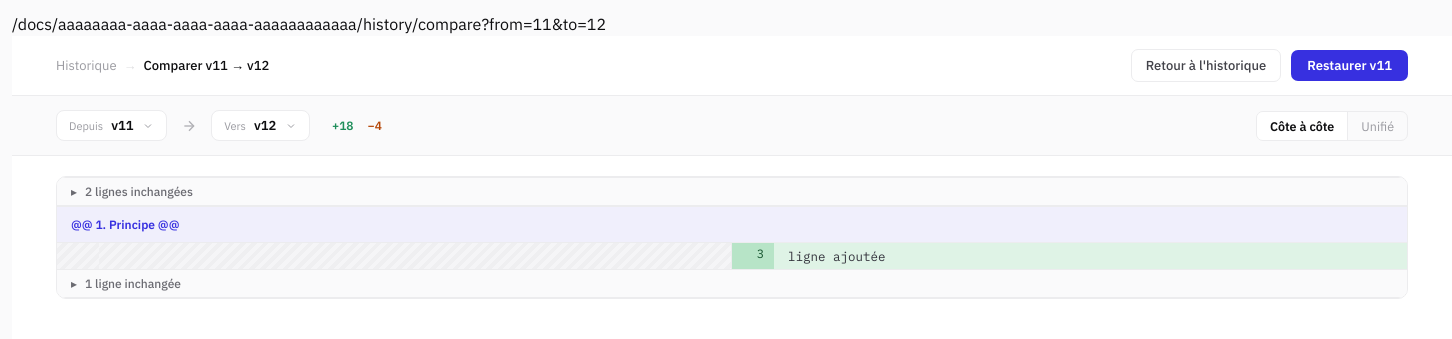
Scenario: DocumentComparePage › blocs repliés par le serveur (lignes absentes, seulement collapsedUnchanged) › affiche « N lignes inchangées » sans en-tête ni ligne, puis charge le contexte complet au dépliage
The width and height of the screenshot is (1452, 339).
Check: the elements with test id "diff-hunk" read "@@ 1. Principe @@", in this order, box [57, 206, 1407, 243]
Click the button with test id "diff-collapsed" showing "▸ 2 lignes inchangées" at (139, 192), box [57, 177, 1407, 206]
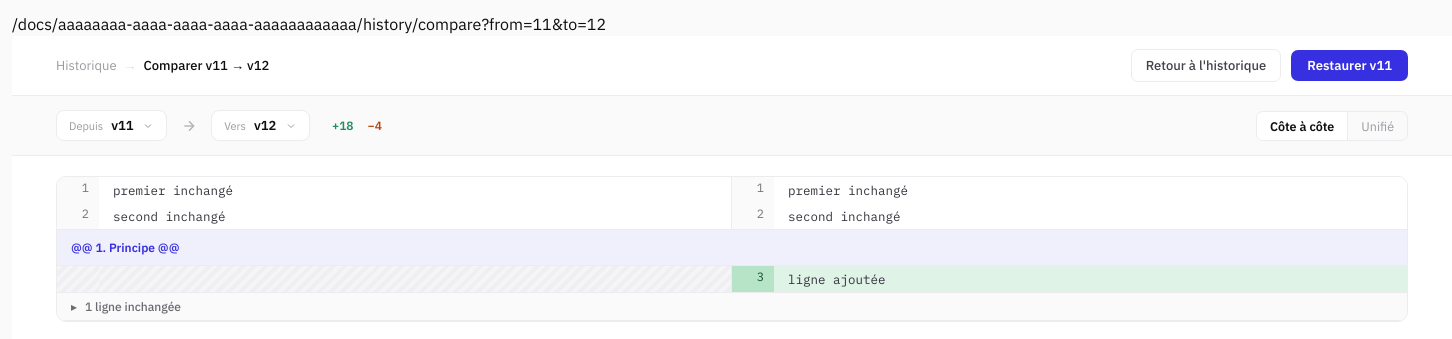
Check: the text "dernier inchangé" is not shown
Check: the text "premier inchangé" is shown 2 times, box [99, 177, 731, 203]; [774, 177, 1407, 203]
Check: the text "second inchangé" is shown 2 times, box [99, 203, 731, 229]; [774, 203, 1407, 229]
Click the button with test id "diff-collapsed" at (133, 307), box [57, 292, 1407, 321]
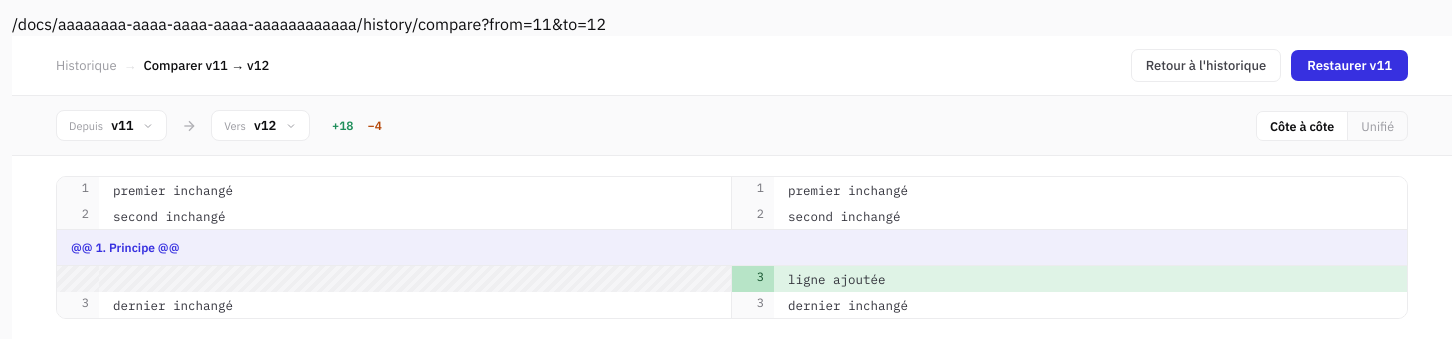
Check: the text "dernier inchangé" is shown 2 times, box [99, 292, 731, 318]; [774, 292, 1407, 318]
